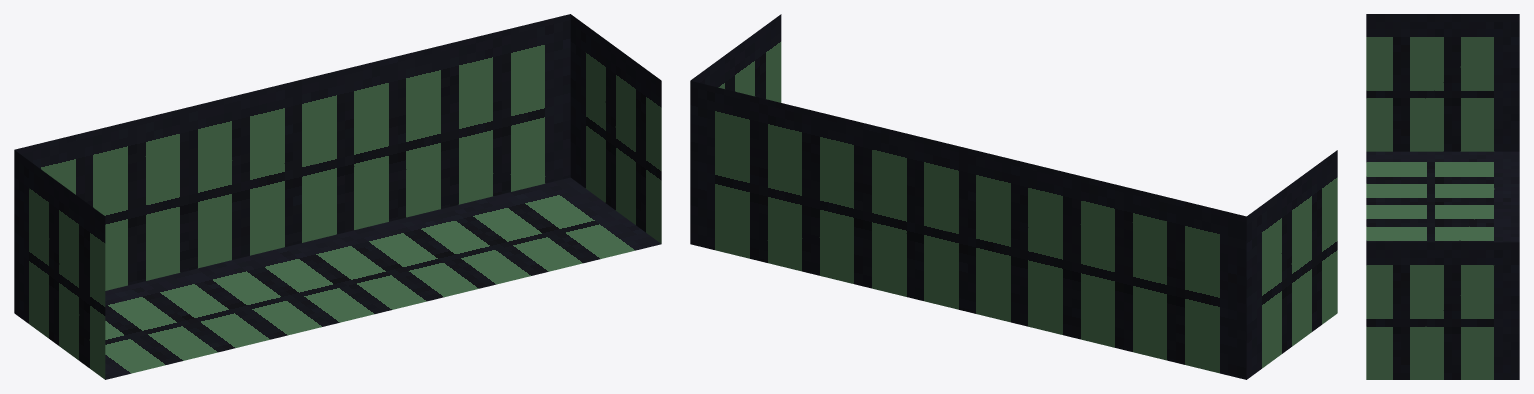
3 views of the same model, side by side, from view 1: azimuth 30°, elevation 25°; view 2: azimuth 150°, elevation 25°; view 3: azimuth 270°, elevation 25° (orthographic). The views are drawn at different scales.
Parts seen in each view (by area): view 1: balcony-type-a; view 2: balcony-type-a; view 3: balcony-type-a.
Part boxes in pixels (x1,y1,x2,y2): balcony-type-a: [14, 14, 661, 379]; balcony-type-a: [690, 14, 1337, 379]; balcony-type-a: [1366, 14, 1519, 379].
Bounding box in the file's own units: 1 × 0.2808 × 0.2837.
Materials: 1 (1 with a texture image).
